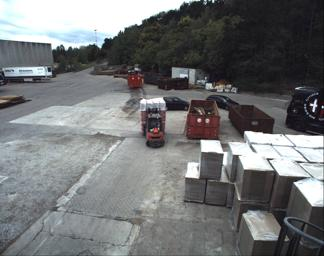rockwool_batts: (139, 97, 165, 132)
